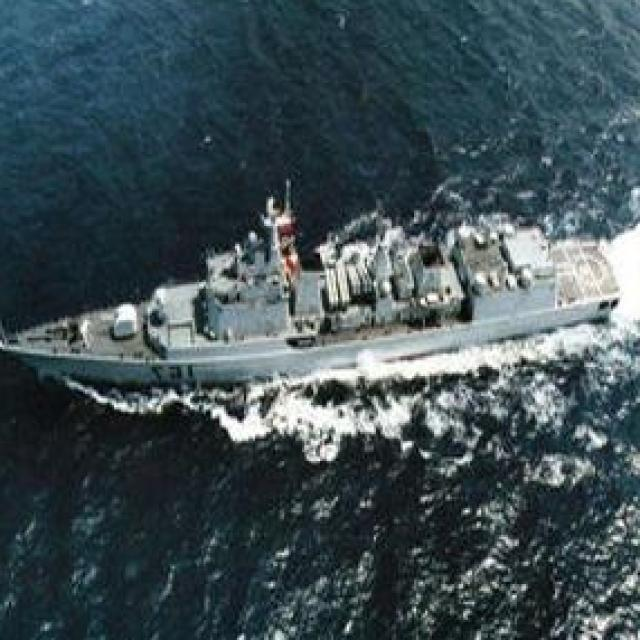navalvessels: (0, 189, 614, 384)
